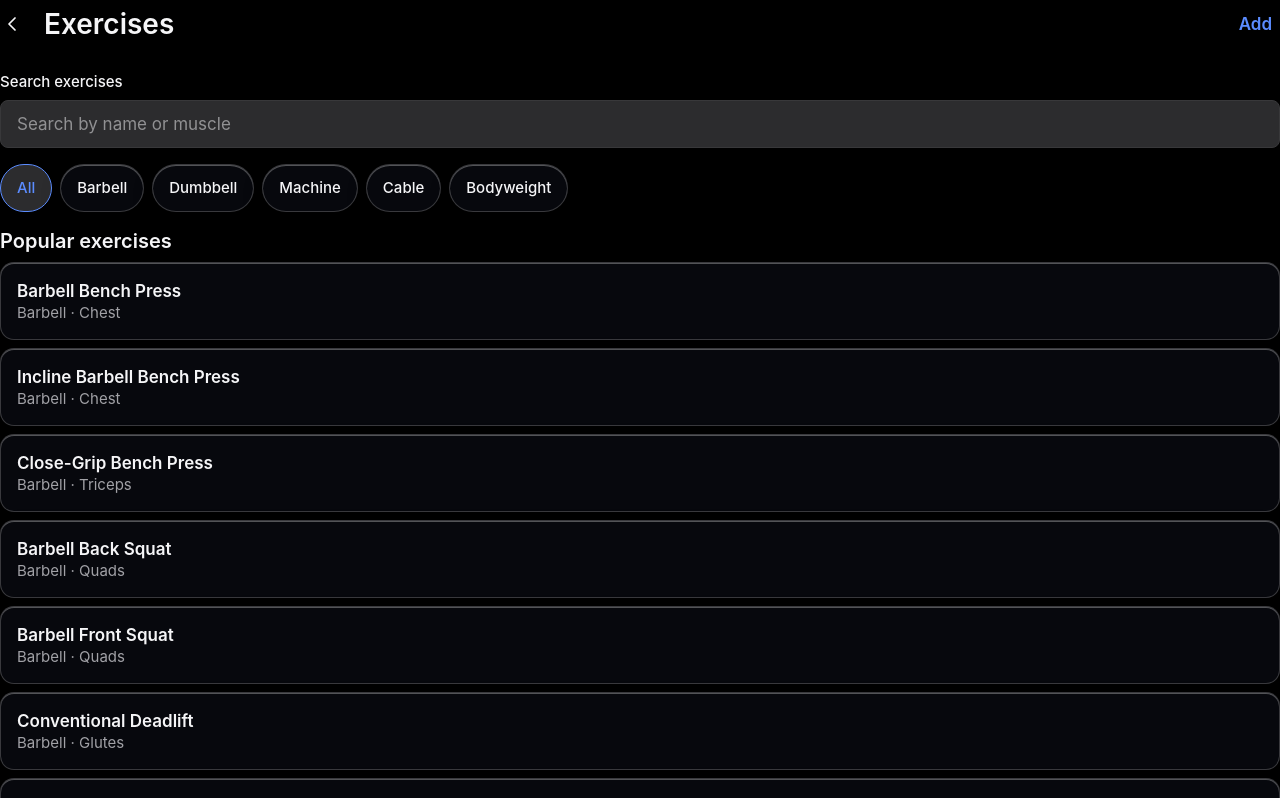
it: ExercisesPage: searching › finds exercises as the user types, and says how many matched
In the search field labelled "Search exercises": [640, 124] box left=0, top=100, right=1279, bottom=148, type "inc"
(page scrolled)
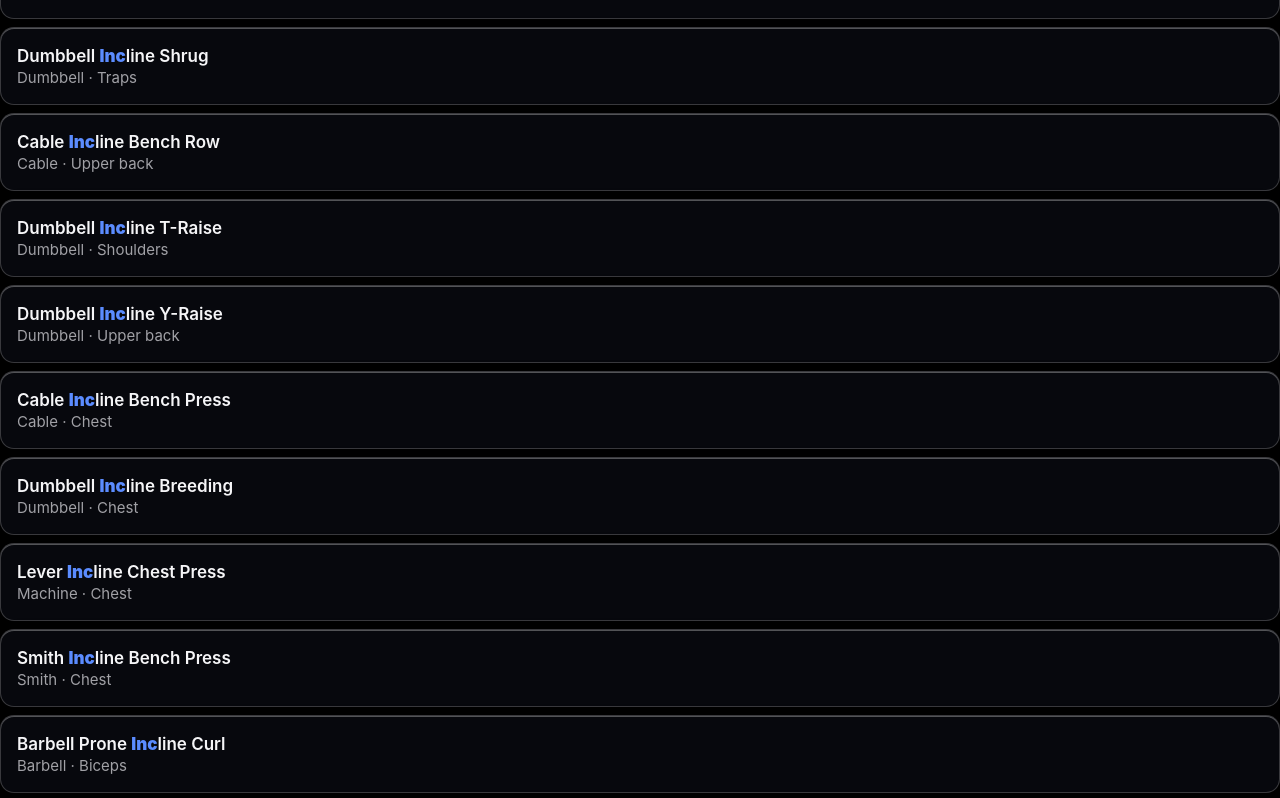
expect the text "Cable Incline Bench Press" is shown: met, box left=17, top=390, right=231, bottom=410
